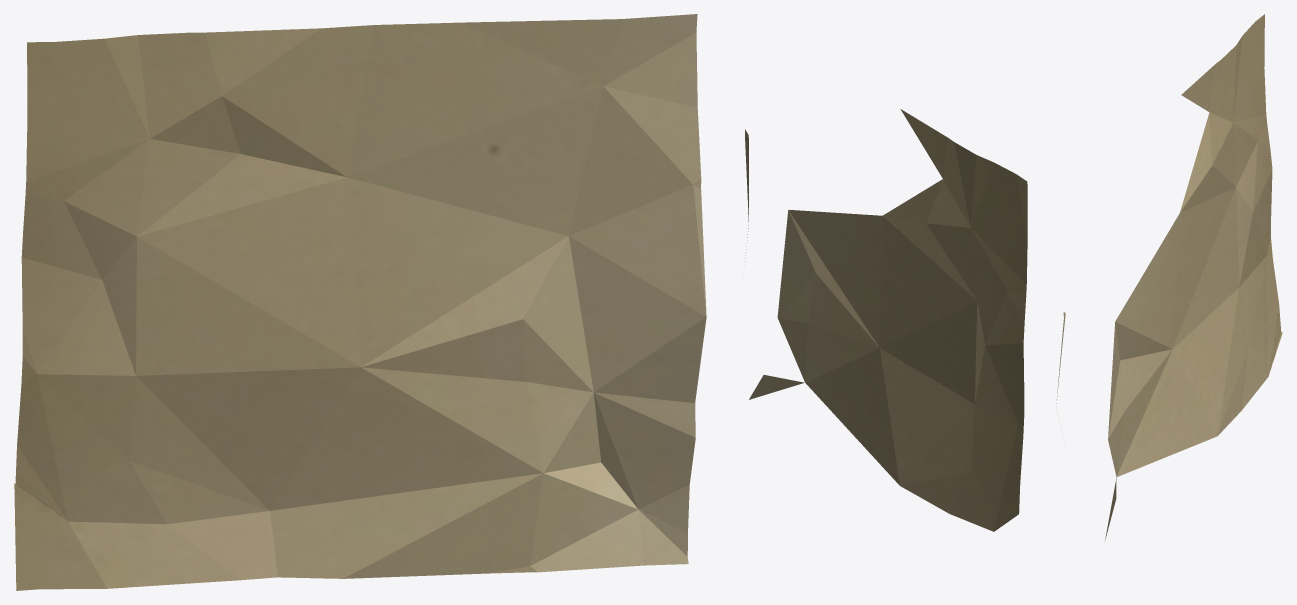
The picture shows the model from 3 angles, left to right: view 1: azimuth 30°, elevation 25°; view 2: azimuth 150°, elevation 25°; view 3: azimuth 270°, elevation 25°; orthographic projection. The views are drawn at different scales.
Bounding box in the file's own units: 0.8374 × 0.8374 × 0.4373.
3 materials, 3 textured.
